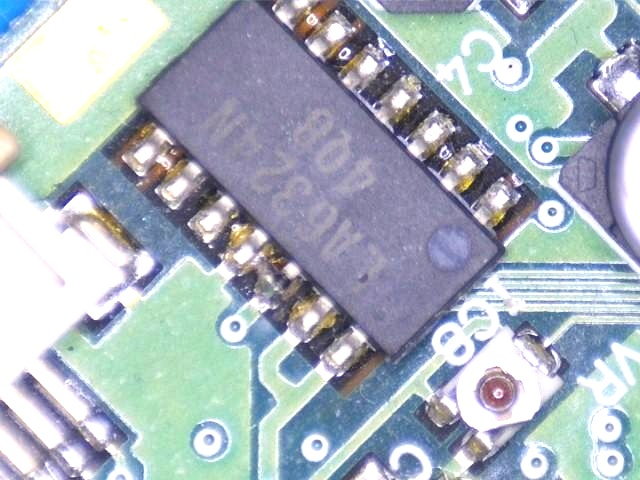pcb_defect: (222, 226, 302, 310)
